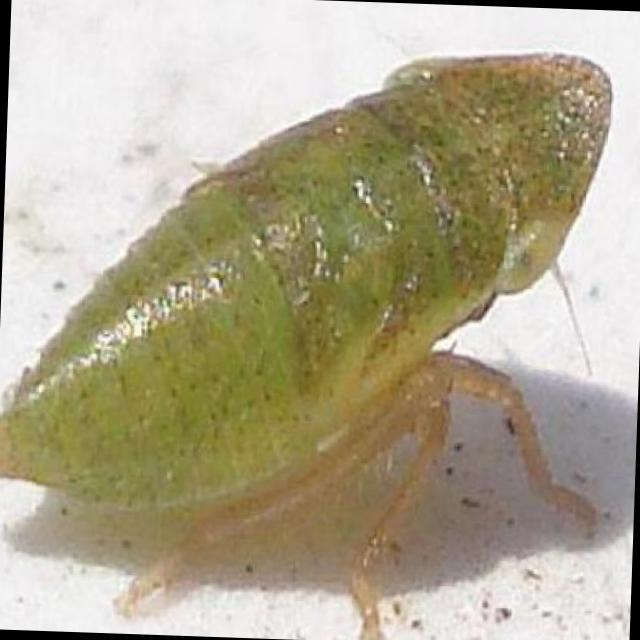green-leafhopper: (0, 30, 601, 596)
